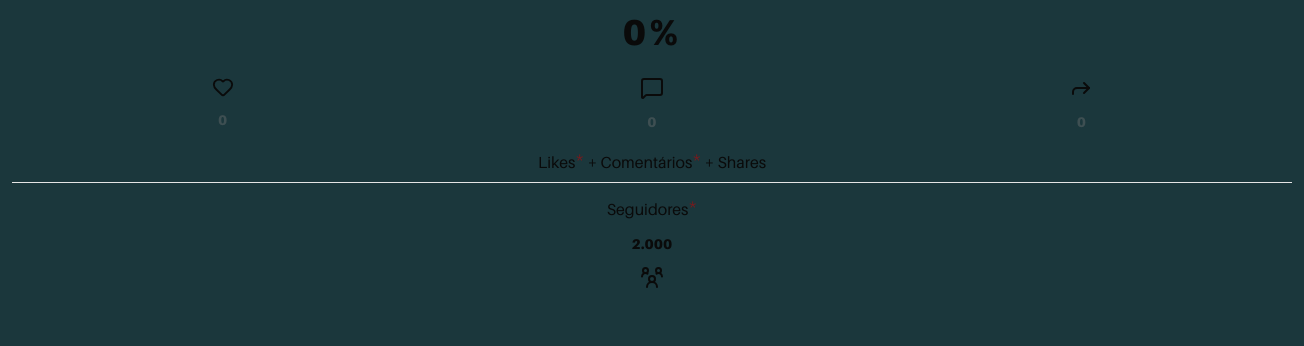
Scenario: EngagementCalculator › starts Followers from defaultFollowers without touching the rate
The image size is (1304, 346).
expect the field named "Seguidores" holds "2.000": met, box top-left (12, 230), bottom-right (1292, 258)
expect the heading "0%" is shown: met, box top-left (622, 12), bottom-right (682, 52)
Type "90" into the field named "Curtidas" at (223,120), box top-left (12, 106), bottom-right (433, 134)
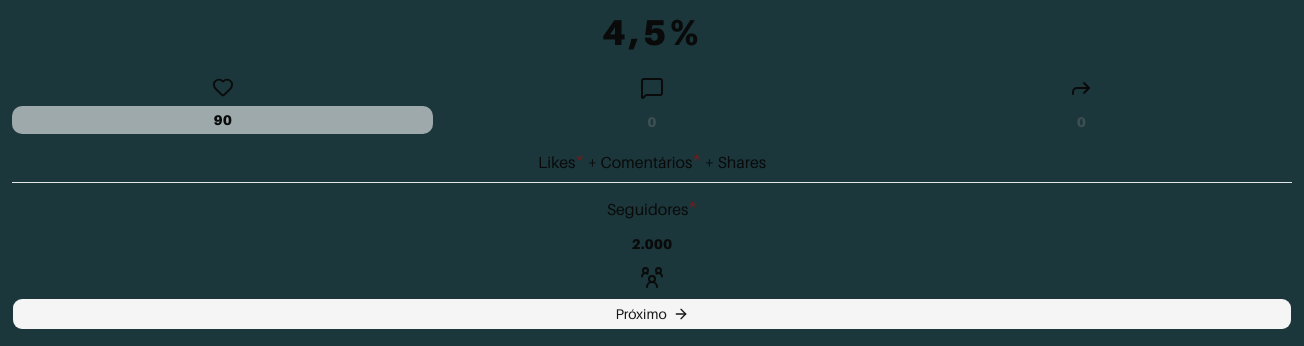
expect the heading "4,5%" is shown: met, box top-left (602, 12), bottom-right (702, 52)
